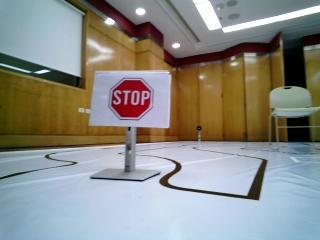stop: (99, 71, 163, 126)
